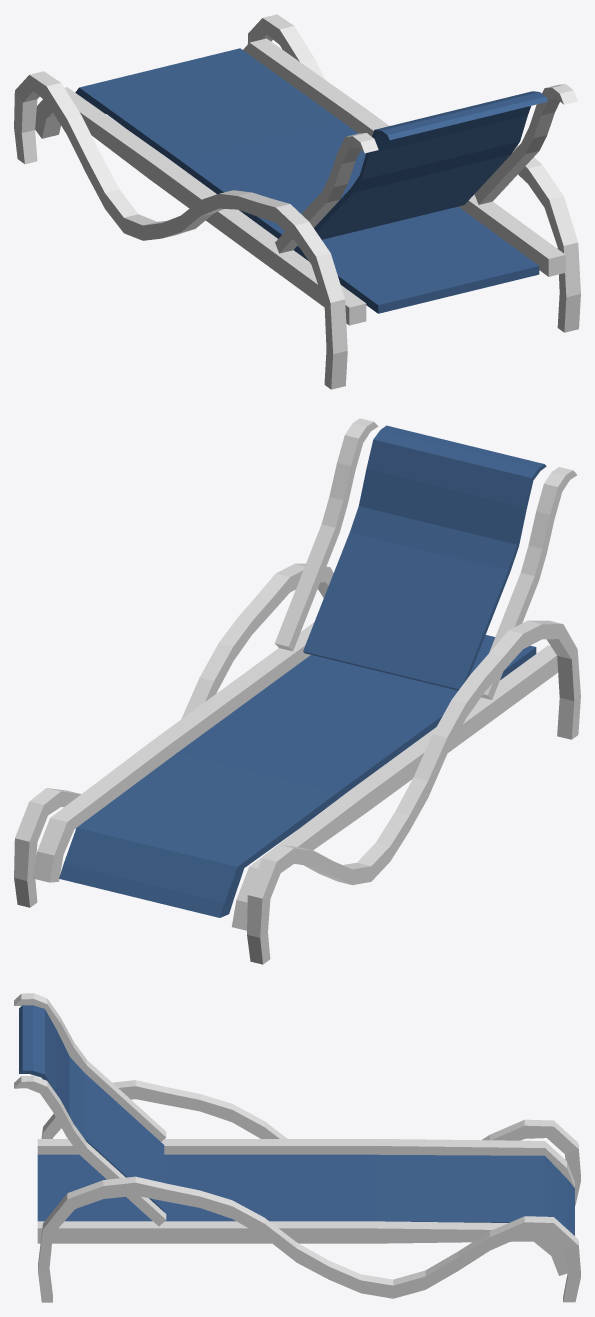
Rendered from reclining chair.fbx.
The picture shows the model from 3 angles, top to bottom: view 1: azimuth 30°, elevation 25°; view 2: azimuth 150°, elevation 25°; view 3: azimuth 270°, elevation 25°; orthographic projection. The views are drawn at different scales.
Visible parts, largest first — view 1: Cube.006; view 2: Cube.006; view 3: Cube.006.
Part boxes in pixels (x1,y1,x2,y2): Cube.006: (14, 14, 580, 389); Cube.006: (14, 418, 580, 964); Cube.006: (14, 993, 580, 1302).
Size of the model in its own units: 187 by 182 by 436.
